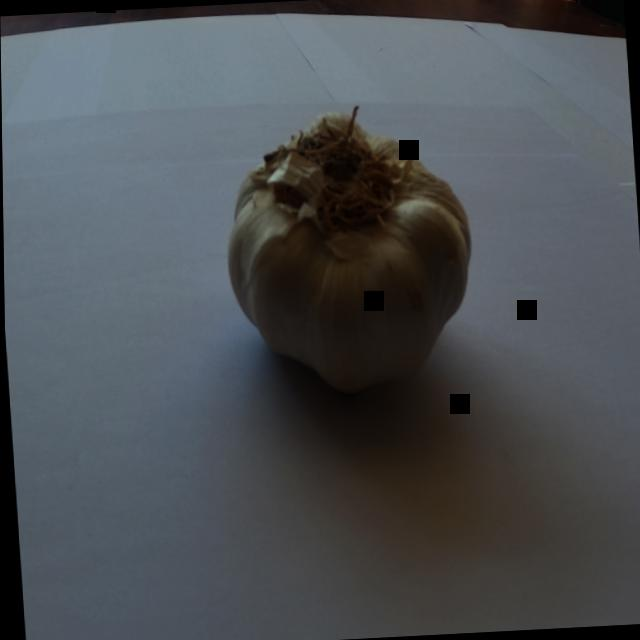Garlic: (187, 82, 493, 433)
